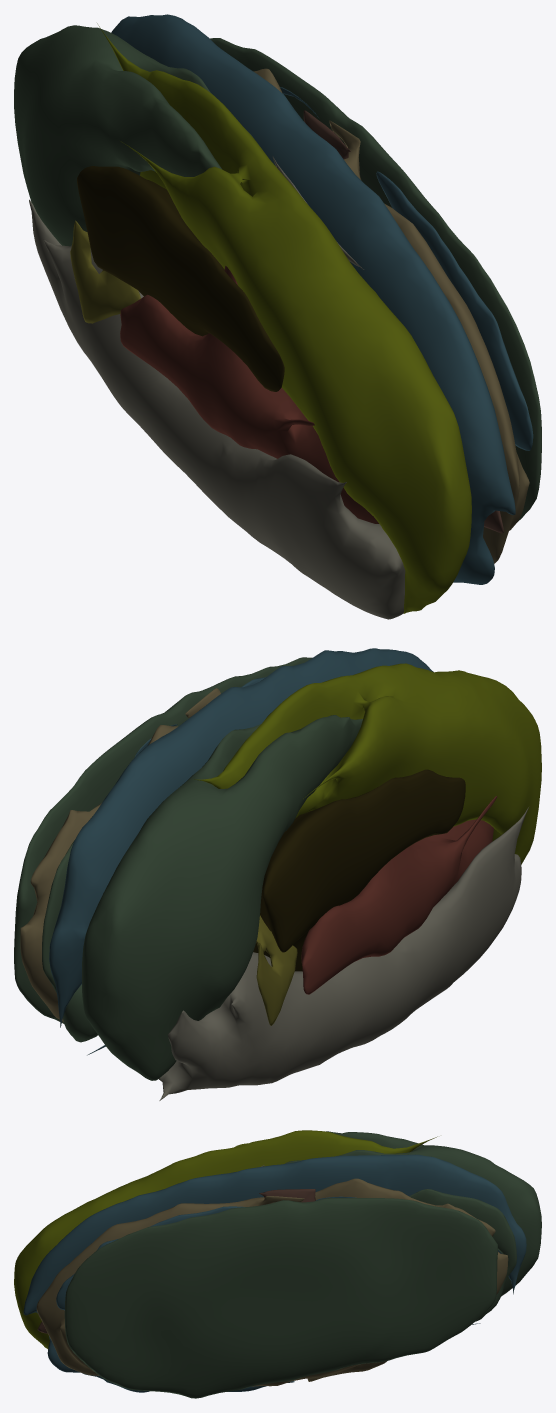
File: organ.obj
The picture shows the model from 3 angles, top to bottom: view 1: azimuth 30°, elevation 25°; view 2: azimuth 150°, elevation 25°; view 3: azimuth 270°, elevation 25°; orthographic projection. The views are drawn at different scales.
Visible parts, largest first — view 1: grp11303, grp7673, grp1, grp14203, grp13073, grp10125, grp3373, grp16071, grp5991; view 2: grp1, grp14203, grp11303, grp7673, grp13073, grp10125, grp3373, grp16071; view 3: grp1, grp7673, grp11303, grp3373, grp5991.
Boxes of the visible parts, x1,y1,x2,y2 form: grp11303: (97, 23, 471, 613); grp7673: (111, 14, 533, 584); grp1: (14, 25, 541, 521); grp14203: (29, 156, 405, 619); grp13073: (77, 166, 284, 391); grp10125: (120, 266, 378, 523); grp3373: (253, 68, 529, 563); grp16071: (70, 220, 140, 323); grp5991: (303, 110, 503, 533); grp1: (14, 657, 362, 1080); grp14203: (159, 807, 528, 1100); grp11303: (194, 663, 541, 864); grp7673: (49, 648, 433, 1055); grp13073: (253, 769, 465, 971); grp10125: (301, 796, 497, 994); grp3373: (20, 688, 220, 1022); grp16071: (256, 915, 297, 1025); grp1: (64, 1131, 541, 1398); grp7673: (23, 1154, 526, 1392); grp11303: (14, 1130, 437, 1348); grp3373: (36, 1178, 508, 1386); grp5991: (37, 1189, 315, 1333).
Size of the model in its own units: 14.25 by 25.93 by 50.91.
